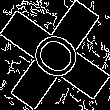O_SE: (22, 23, 88, 87)
